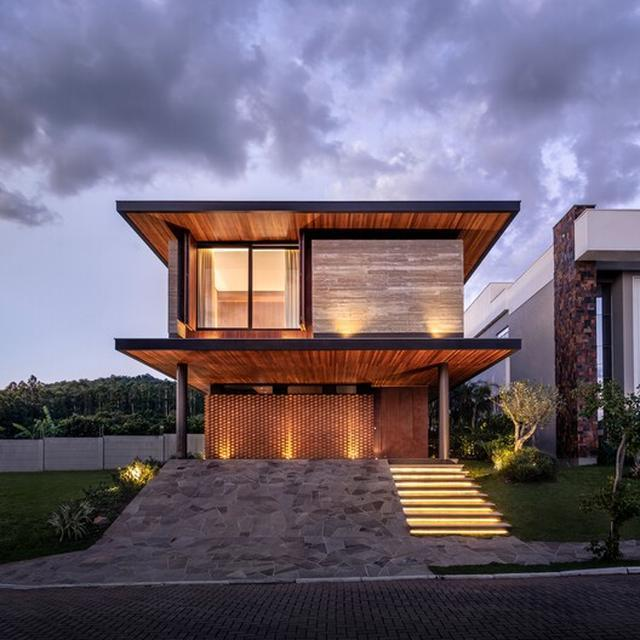building: (112, 192, 516, 468), (469, 200, 640, 472)
